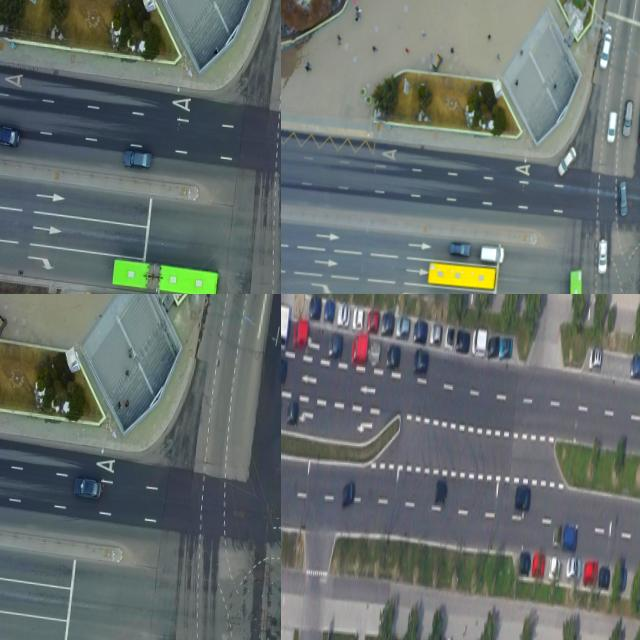UAI: (555, 144, 578, 182), (72, 475, 102, 500), (122, 148, 152, 170), (614, 179, 631, 217), (621, 96, 635, 138), (598, 32, 613, 71), (596, 236, 610, 277), (0, 122, 22, 148), (351, 332, 368, 365), (292, 318, 309, 349), (605, 110, 619, 144), (514, 485, 531, 512), (565, 555, 582, 582), (471, 327, 486, 357), (562, 524, 578, 552), (413, 347, 429, 375), (328, 332, 343, 360), (341, 480, 355, 509), (386, 343, 401, 370), (455, 328, 470, 354), (582, 560, 597, 585), (380, 311, 395, 336), (518, 549, 532, 575), (336, 302, 350, 328), (434, 477, 447, 505), (447, 242, 471, 257), (412, 320, 427, 344), (285, 400, 299, 425), (351, 305, 364, 331), (547, 554, 560, 579), (597, 564, 610, 589), (367, 308, 380, 333), (531, 553, 545, 576), (588, 347, 602, 370), (396, 316, 410, 339), (368, 341, 380, 367), (498, 336, 512, 358), (309, 295, 322, 318), (629, 351, 640, 378), (429, 322, 441, 345), (323, 299, 335, 322), (487, 335, 499, 357), (444, 325, 454, 348), (552, 525, 561, 547), (636, 103, 640, 144), (281, 356, 286, 384)
car: (110, 255, 220, 294), (426, 260, 498, 291), (559, 266, 590, 294), (281, 295, 290, 351)
harvester: (480, 242, 506, 266)
